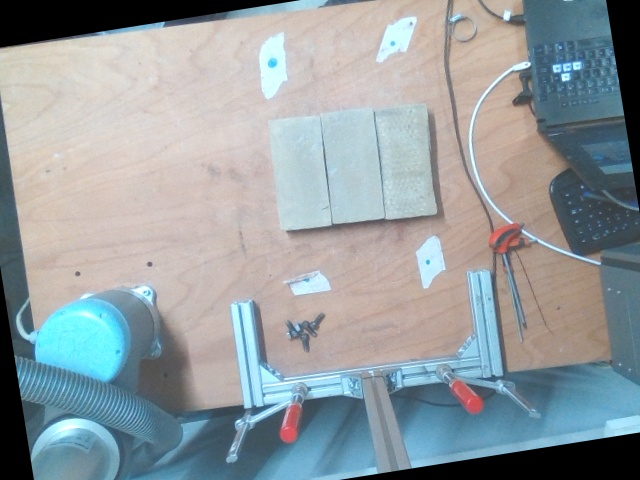brick: (323, 108, 384, 223), (270, 112, 329, 229), (377, 105, 434, 216)
